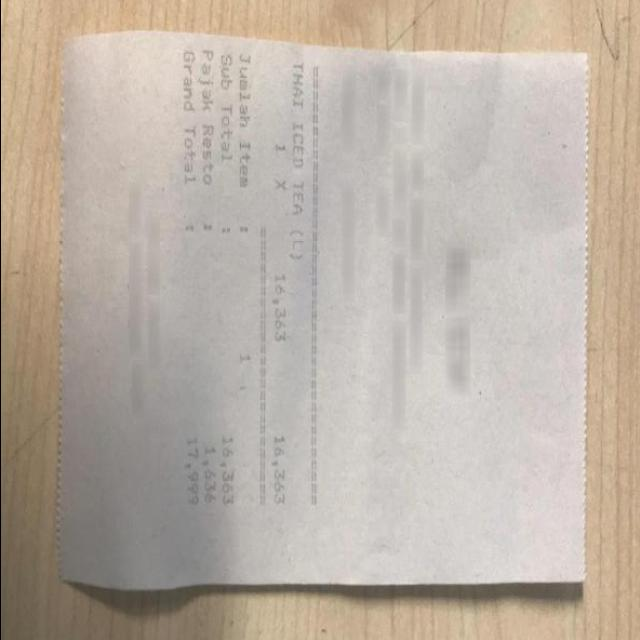kertas: (58, 30, 587, 591)
